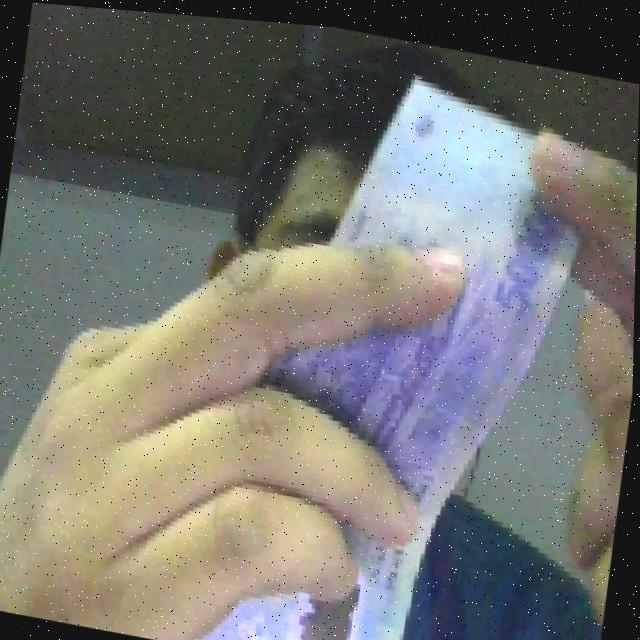500 000 VND: (164, 24, 600, 640)
